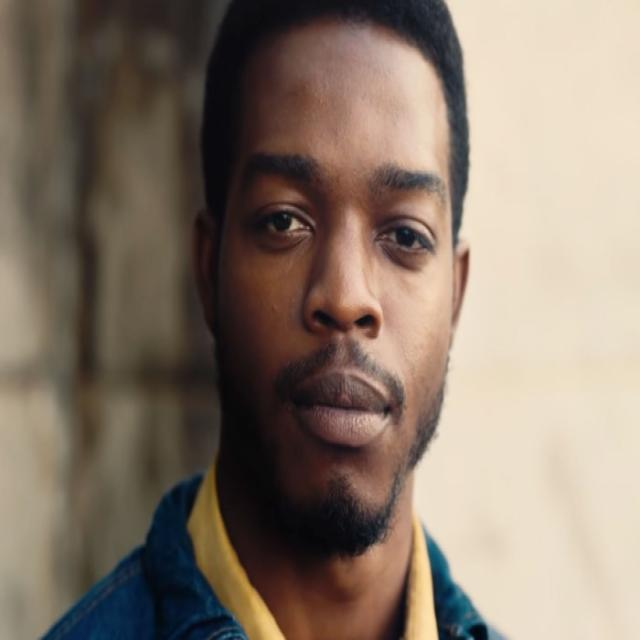human: (68, 3, 586, 640)
